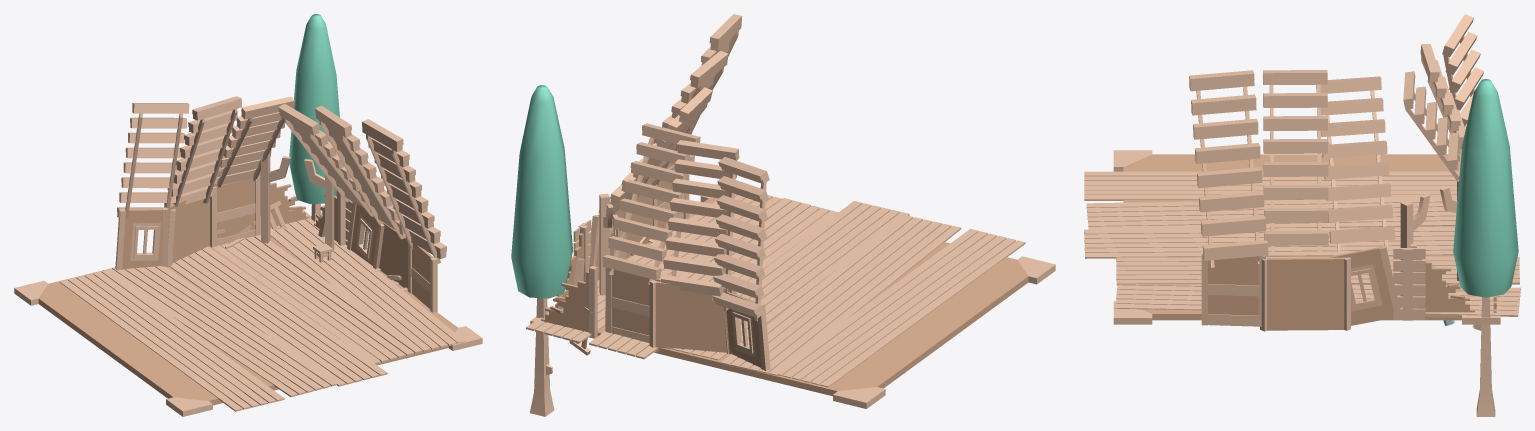
File: betaTreeHouse2.fbx
3 views of the same model, side by side, from view 1: azimuth 30°, elevation 25°; view 2: azimuth 150°, elevation 25°; view 3: azimuth 270°, elevation 25° (orthographic). The views are drawn at different scales.
Visible parts, largest first — view 1: wallWoodBlockHalf, planks.004, planks.002, planks.003, planks.001, planks, treeHighRound, stairsWideWood.004, stairsWideWood.005, stairsWideWood, stairsWideWood.001, stairsWideWood.002 (+10 smaller); view 2: wallWoodBlockHalf, treeHighRound, planks.004, planks.003, planks.002, stairsWideWood, stairsWideWood.001, stairsWideWood.004, wallWoodDiagonal, planks.001, wallWoodDetailHorizontal, planks (+8 smaller); view 3: treeHighRound, stairsWideWood.005, stairsWideWood.002, stairsWideWood.003, planks.002, wallWoodDiagonal.001, planks.004, wallWoodBlockHalf, planks.003, wallWoodDetailHorizontal.001, planks, planks.001 (+7 smaller).
Boxes of the visible parts, x1,y1,x2,y2 form: wallWoodBlockHalf: (14, 215, 482, 416); planks.004: (60, 270, 284, 411); planks.002: (169, 246, 387, 386); planks.003: (103, 266, 336, 397); planks.001: (213, 234, 422, 364); planks: (270, 210, 465, 353); treeHighRound: (289, 14, 339, 221); stairsWideWood.004: (117, 103, 189, 218); stairsWideWood.005: (362, 119, 446, 263); stairsWideWood: (164, 96, 241, 207); stairsWideWood.001: (213, 96, 294, 187); stairsWideWood.002: (315, 105, 404, 239); wallWoodBlockHalf: (530, 184, 1055, 408); treeHighRound: (511, 85, 572, 416); planks.004: (773, 229, 1025, 387); planks.003: (720, 215, 961, 375); planks.002: (667, 201, 909, 360); stairsWideWood: (661, 140, 739, 300); stairsWideWood.001: (602, 123, 700, 284); stairsWideWood.004: (712, 157, 769, 321); wallWoodDiagonal: (649, 280, 736, 354); planks.001: (589, 198, 838, 359); wallWoodDetailHorizontal: (605, 267, 661, 342); planks: (526, 194, 781, 343); treeHighRound: (1453, 79, 1518, 416); stairsWideWood.005: (1189, 70, 1268, 267); stairsWideWood.002: (1263, 70, 1328, 253); stairsWideWood.003: (1316, 76, 1394, 250); planks.002: (1084, 227, 1454, 258); wallWoodDiagonal.001: (1260, 257, 1350, 331); planks.004: (1084, 171, 1458, 200); wallWoodBlockHalf: (1113, 150, 1500, 324); planks.003: (1086, 197, 1456, 229); wallWoodDetailHorizontal.001: (1201, 251, 1266, 326); planks: (1115, 284, 1520, 317); planks.001: (1116, 256, 1519, 284).
Bounding box in the file's own units: 660 × 569 × 679.
